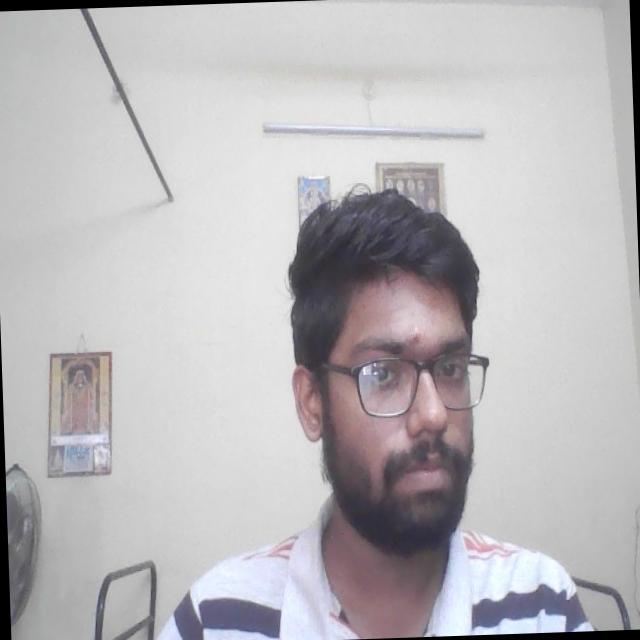Focused: (304, 270, 500, 528)
